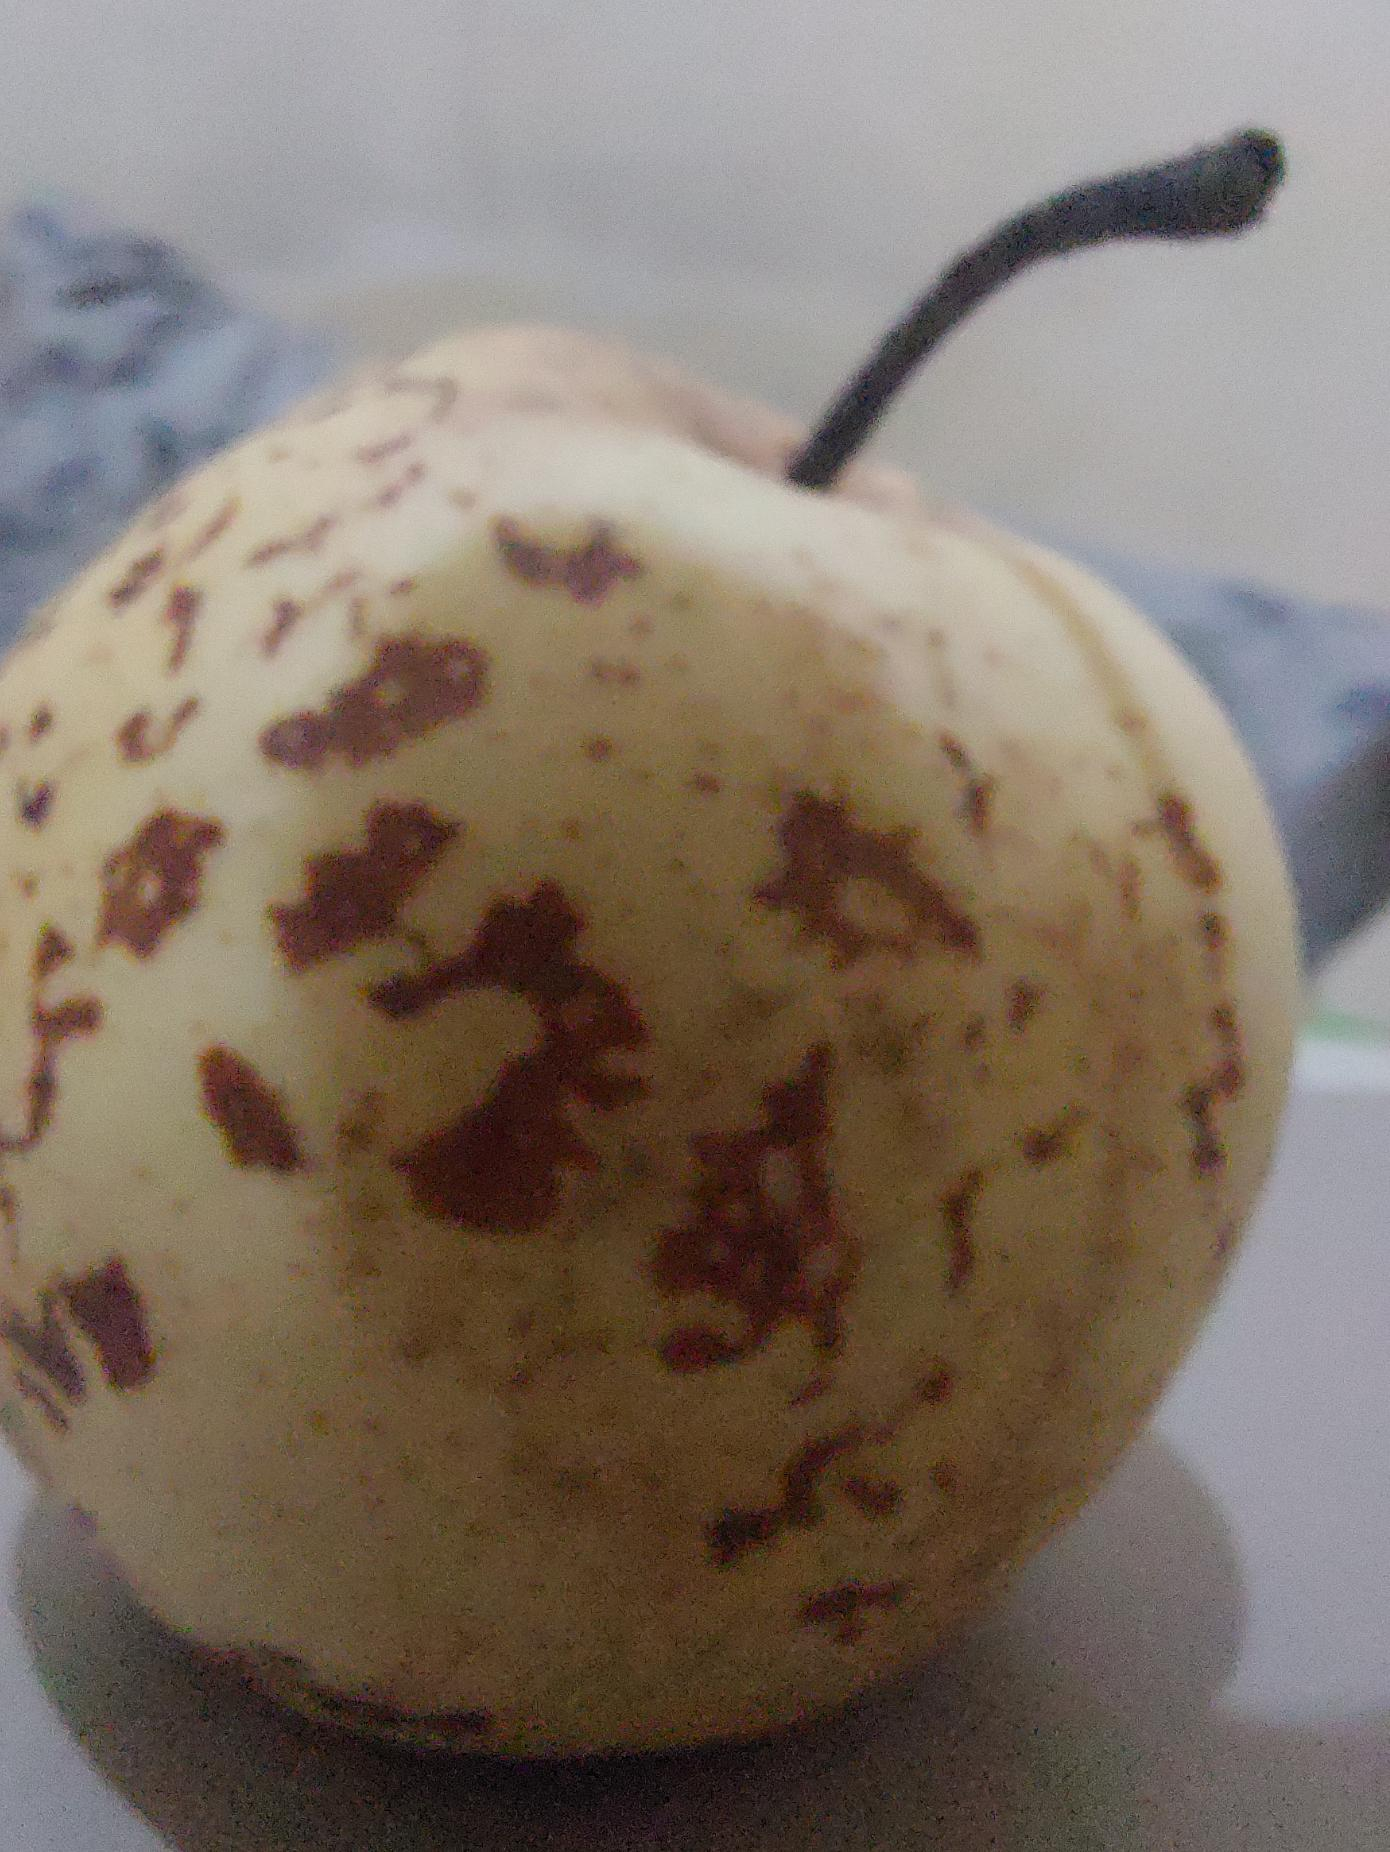Bad Pear: (0, 133, 1335, 1770)
